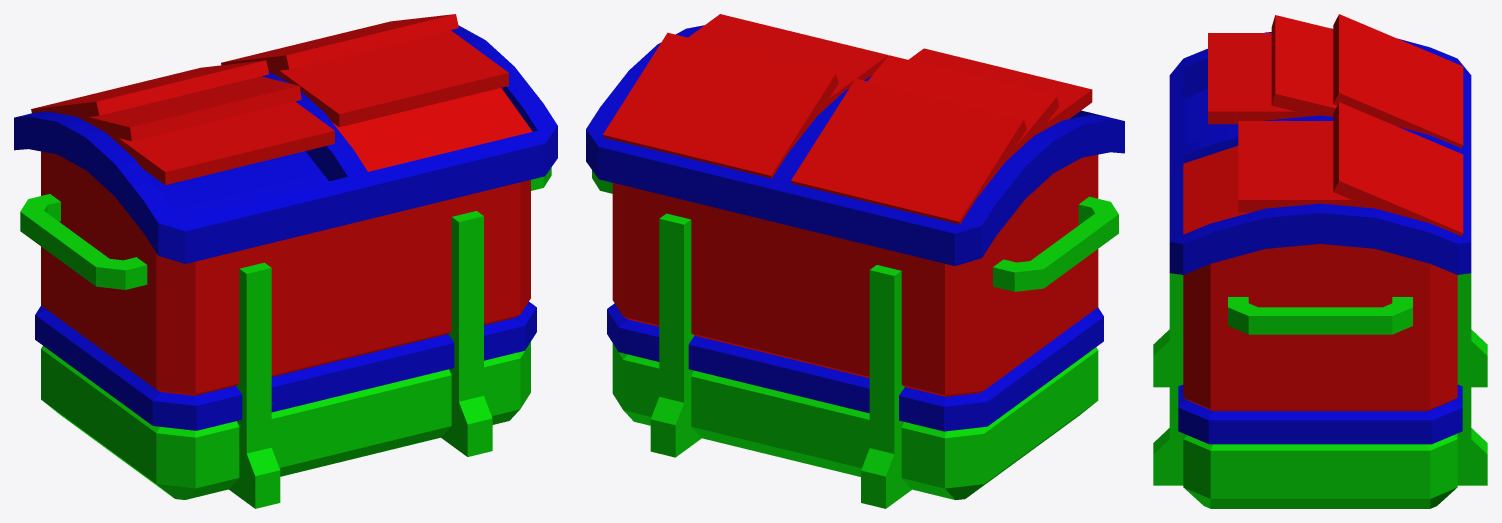
Rendered from SM_Dumpster01.FBX.
3 views of the same model, side by side, from view 1: azimuth 30°, elevation 25°; view 2: azimuth 150°, elevation 25°; view 3: azimuth 270°, elevation 25° (orthographic). The views are drawn at different scales.
Visible parts, largest first — view 1: SM_Dumpster_01; view 2: SM_Dumpster_01; view 3: SM_Dumpster_01.
Boxes of the visible parts, <box> form: SM_Dumpster_01: <box>14,14,557,508</box>; SM_Dumpster_01: <box>586,14,1124,508</box>; SM_Dumpster_01: <box>1153,14,1487,508</box>.
Bounding box in the file's own units: 548 × 402 × 366.
